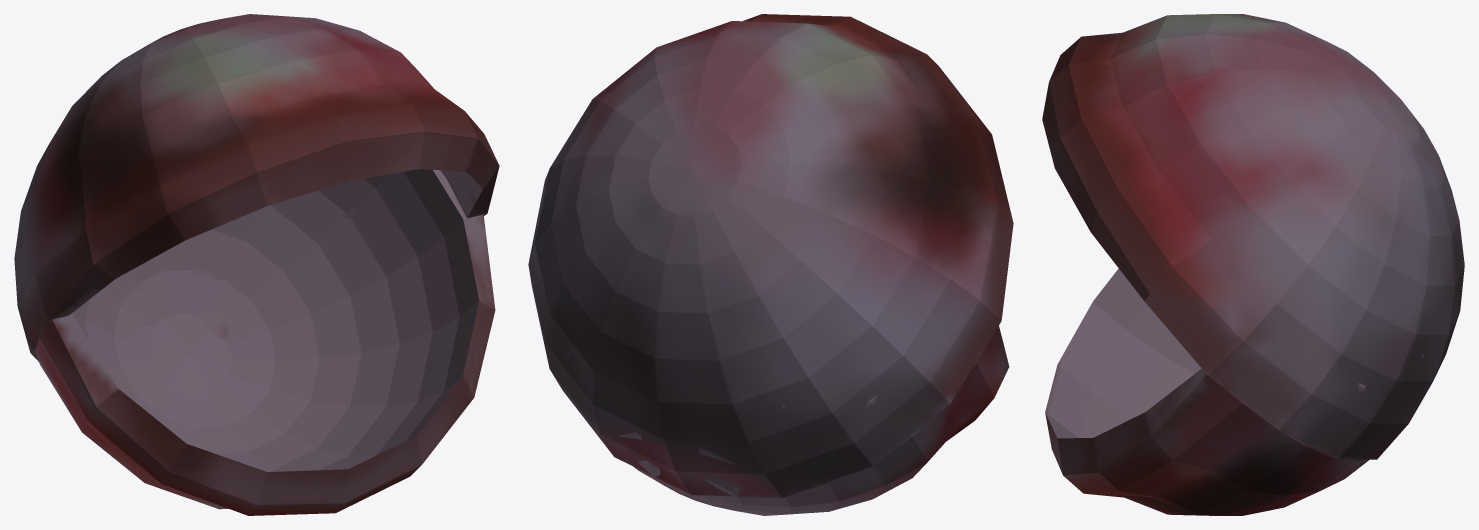
The model's file is eyelids.glb.
3 views of the same model, side by side, from view 1: azimuth 30°, elevation 25°; view 2: azimuth 150°, elevation 25°; view 3: azimuth 270°, elevation 25° (orthographic).
Visible parts, largest first — view 1: Sphere.002, Sphere.001; view 2: Sphere.001, Sphere.002; view 3: Sphere.001, Sphere.002.
Part boxes in pixels (x1,y1,x2,y2): Sphere.002: [35, 169, 495, 515]; Sphere.001: [14, 14, 499, 361]; Sphere.001: [528, 14, 1013, 498]; Sphere.002: [538, 314, 1009, 515]; Sphere.001: [1042, 14, 1464, 459]; Sphere.002: [1045, 268, 1423, 515].
Size of the model in its own units: 2.18 by 2.16 by 1.79.
Materials: 1 (1 with a texture image).
